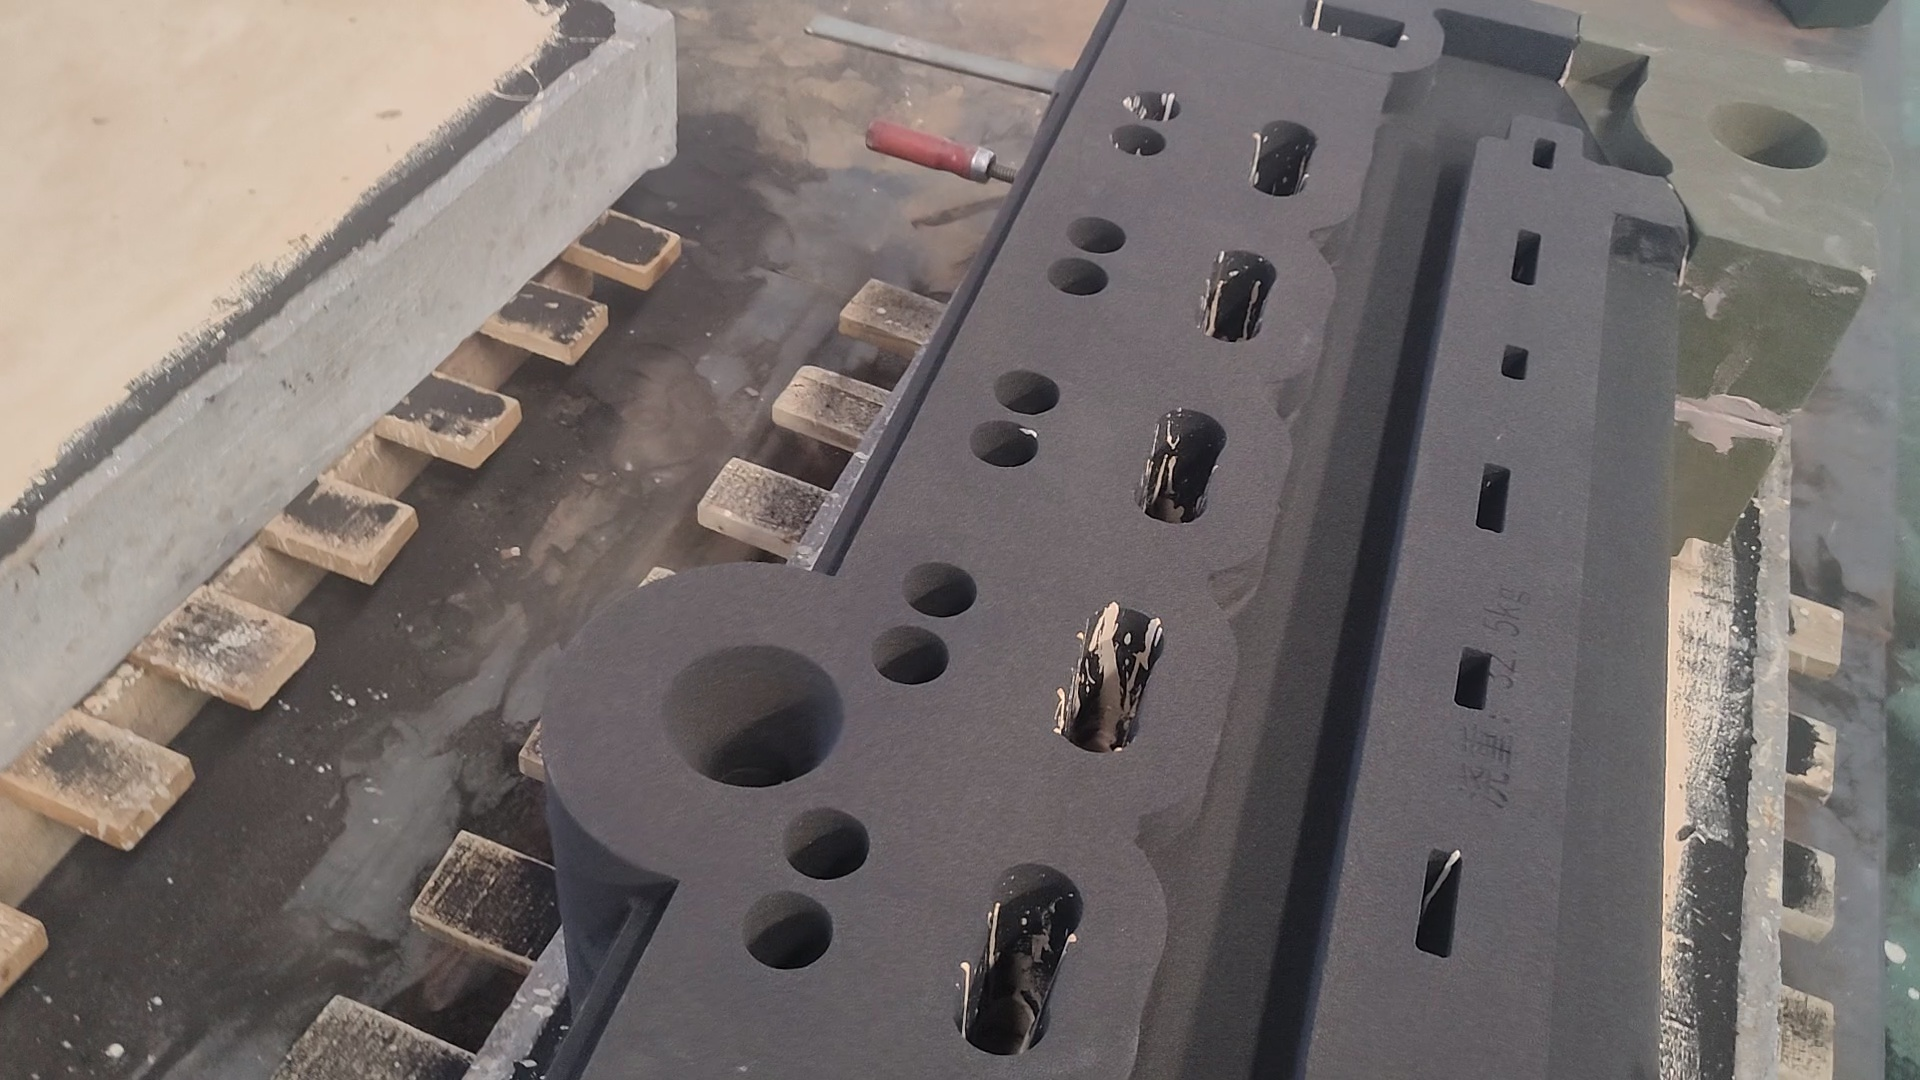pouring hole: (659, 647, 844, 787), (1704, 102, 1828, 170)
